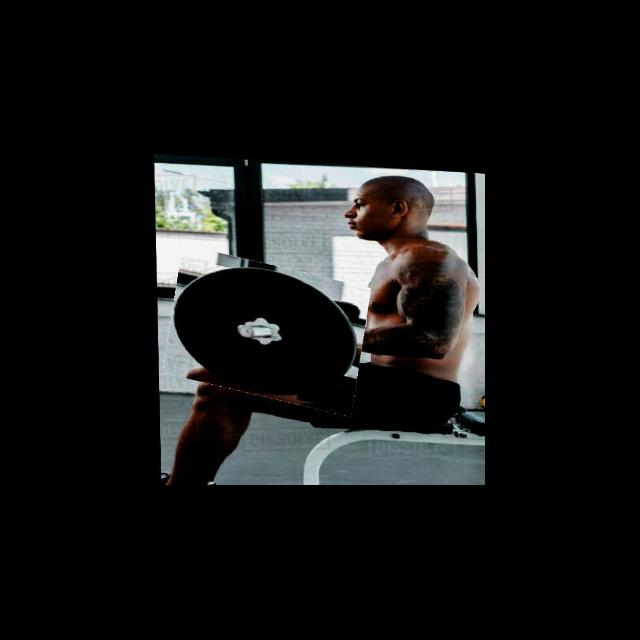barbell: (165, 251, 368, 407)
